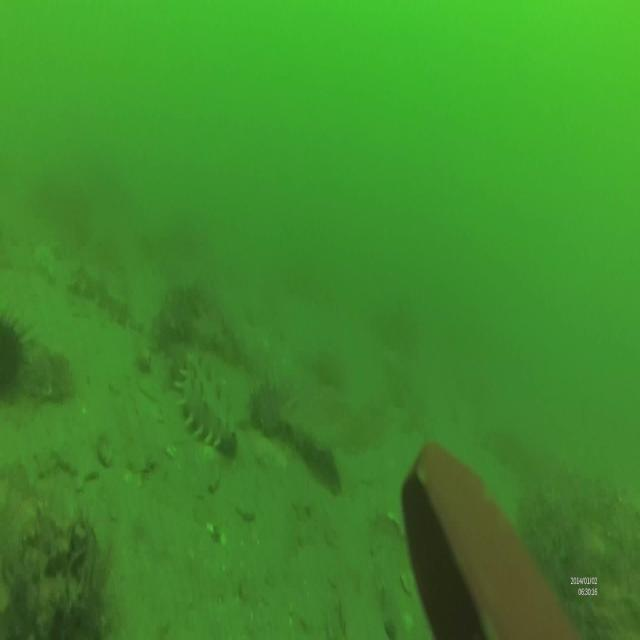echinus: (2, 311, 24, 407)
holothurian: (176, 356, 242, 459), (69, 260, 139, 334)
